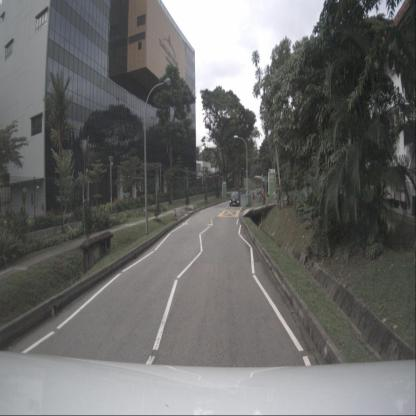human-pedestrian-adult: (261, 185, 268, 207)
vehicle-car: (230, 190, 240, 206), (119, 189, 131, 200)
